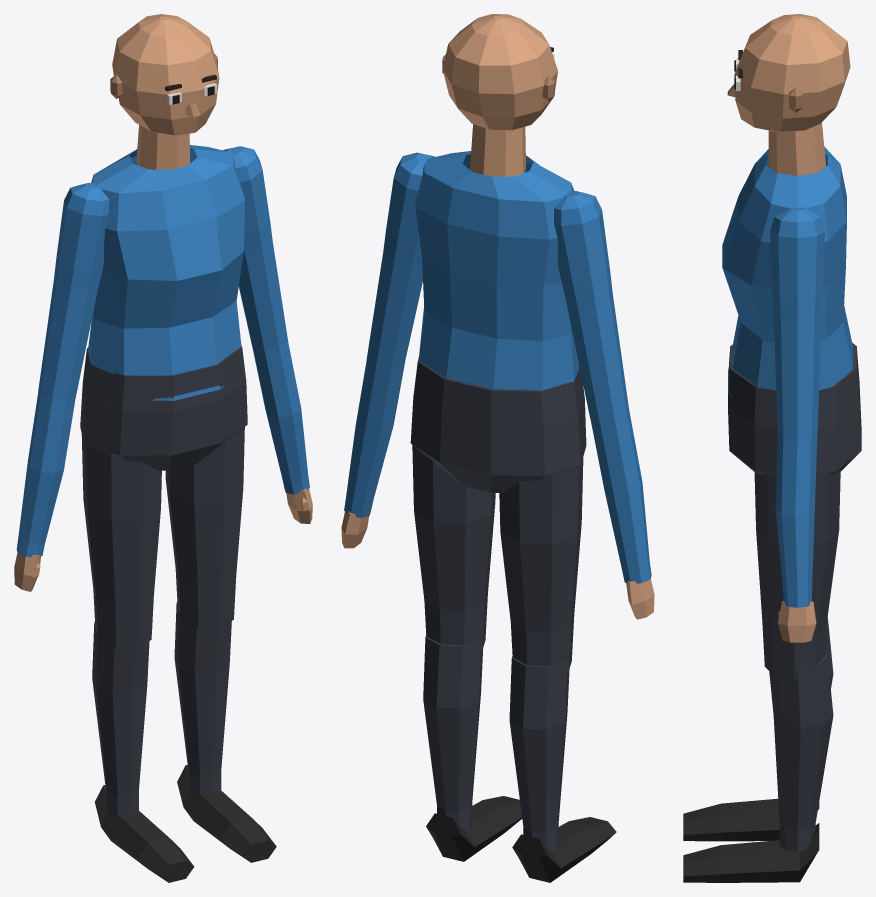
File: ado_f_moyen.glb
The picture shows the model from 3 angles, left to right: view 1: azimuth 30°, elevation 25°; view 2: azimuth 150°, elevation 25°; view 3: azimuth 270°, elevation 25°; orthographic projection. The views are drawn at different scales.
Parts seen in each view (by area): view 1: torse, bassin, jambe_d, tete, jambe_g, tibia_g, tibia_d, bras_d, bras_g, avant_bras_d, avant_bras_g; view 2: torse, bassin, jambe_d, tete, tibia_d, tibia_g, jambe_g, bras_d, bras_g, avant_bras_d, avant_bras_g; view 3: torse, tibia_g, tete, bras_g, jambe_g, bassin, avant_bras_g, tibia_d.
Part boxes in pixels (<box>): torse: <box>88,145,244,400</box>; bassin: <box>80,345,247,470</box>; jambe_d: <box>81,420,161,648</box>; tete: <box>110,14,219,169</box>; jambe_g: <box>165,427,244,628</box>; tibia_g: <box>174,602,276,862</box>; tibia_d: <box>92,622,194,882</box>; bras_d: <box>38,182,109,400</box>; bras_g: <box>223,146,287,353</box>; avant_bras_d: <box>14,393,75,591</box>; avant_bras_g: <box>252,341,312,523</box>; torse: <box>415,151,579,390</box>; bassin: <box>410,357,586,492</box>; jambe_d: <box>499,457,583,671</box>; tete: <box>442,14,557,176</box>; tibia_d: <box>509,656,616,882</box>; tibia_g: <box>423,635,522,861</box>; jambe_g: <box>412,445,495,650</box>; bras_d: <box>554,191,628,422</box>; bras_g: <box>366,152,434,370</box>; avant_bras_d: <box>590,409,654,619</box>; avant_bras_g: <box>341,360,405,548</box>; torse: <box>722,147,852,397</box>; tibia_g: <box>683,654,833,882</box>; tete: <box>727,14,850,175</box>; bras_g: <box>770,207,824,440</box>; jambe_g: <box>754,461,840,678</box>; bassin: <box>728,343,861,475</box>; avant_bras_g: <box>775,432,817,642</box>; tibia_d: <box>683,617,833,841</box>.
Size of the model in its own units: 0.5946 by 1.59 by 0.3052.
1 material, 1 textured.
